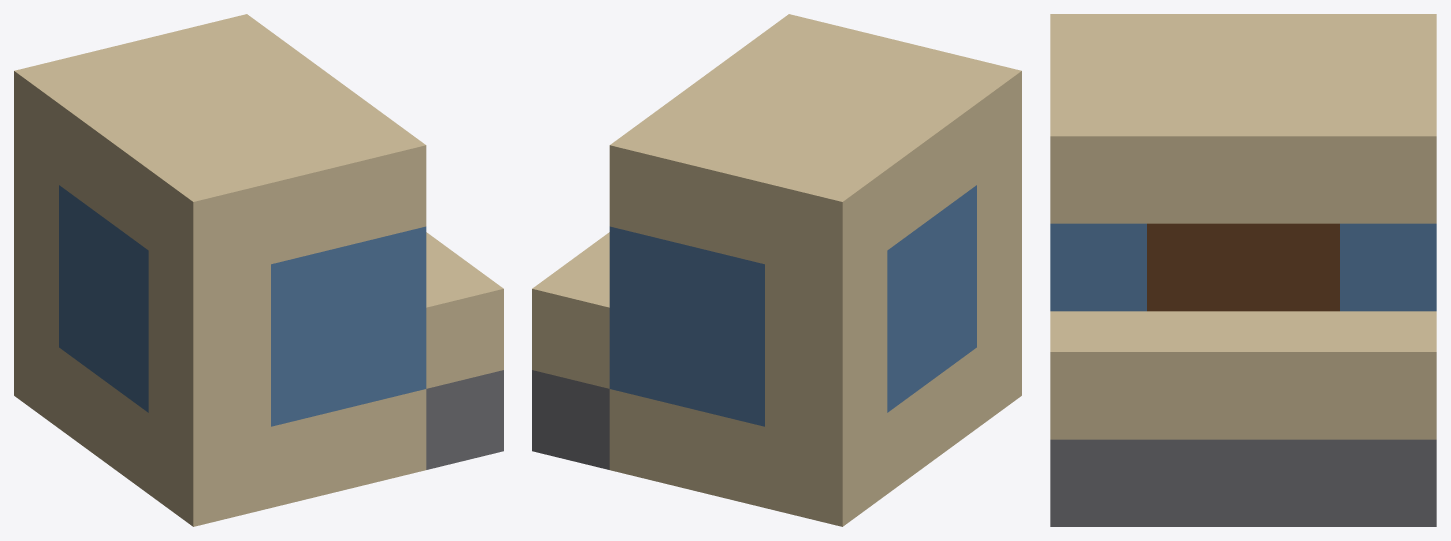
The model's file is building_balcony.glb.
3 views of the same model, side by side, from view 1: azimuth 30°, elevation 25°; view 2: azimuth 150°, elevation 25°; view 3: azimuth 270°, elevation 25° (orthographic). The views are drawn at different scales.
Visible parts, largest first — view 1: building_balcony; view 2: building_balcony; view 3: building_balcony.
Boxes of the visible parts, x1,y1,x2,y2 form: building_balcony: [14, 14, 503, 526]; building_balcony: [532, 14, 1021, 526]; building_balcony: [1050, 14, 1436, 526].
Size of the model in its own units: 1 by 1 by 1.
Materials: 1 (1 with a texture image).
